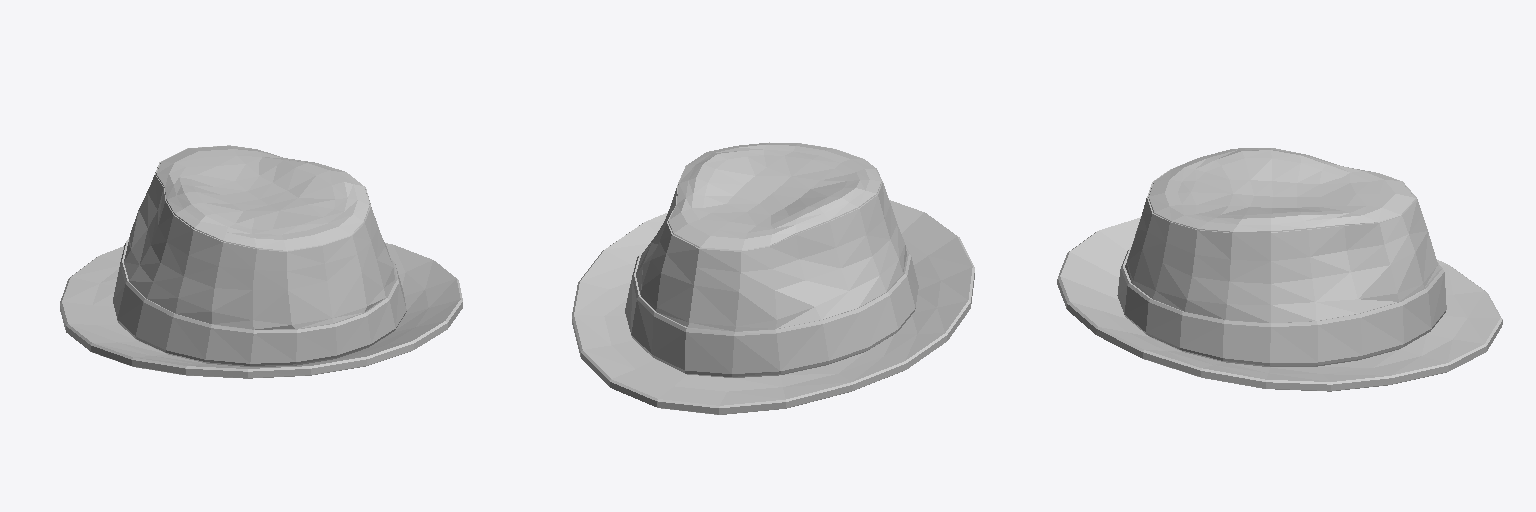
3 views of the same model, side by side, from view 1: azimuth 30°, elevation 25°; view 2: azimuth 150°, elevation 25°; view 3: azimuth 270°, elevation 25° (orthographic).
Parts seen in each view (by area): view 1: Handle1; view 2: Handle1; view 3: Handle1.
Part boxes in pixels (x1,y1,x2,y2): Handle1: (60, 145, 462, 378); Handle1: (572, 142, 974, 414); Handle1: (1057, 148, 1502, 391).
Size of the model in its own units: 1.74 by 0.6932 by 1.94.